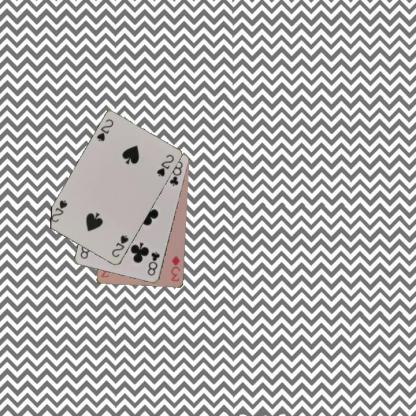2s: (109, 232, 130, 259), (94, 116, 115, 142)
3d: (169, 253, 181, 283)
8c: (145, 249, 161, 277)
